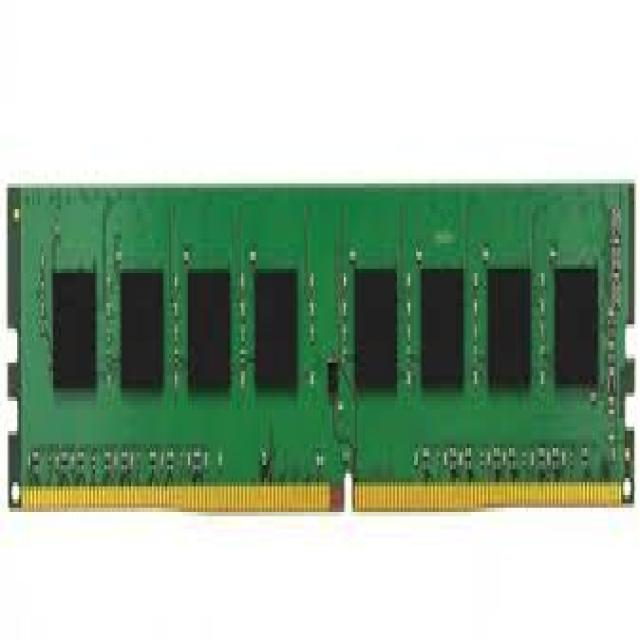Ram: (18, 94, 600, 570)
